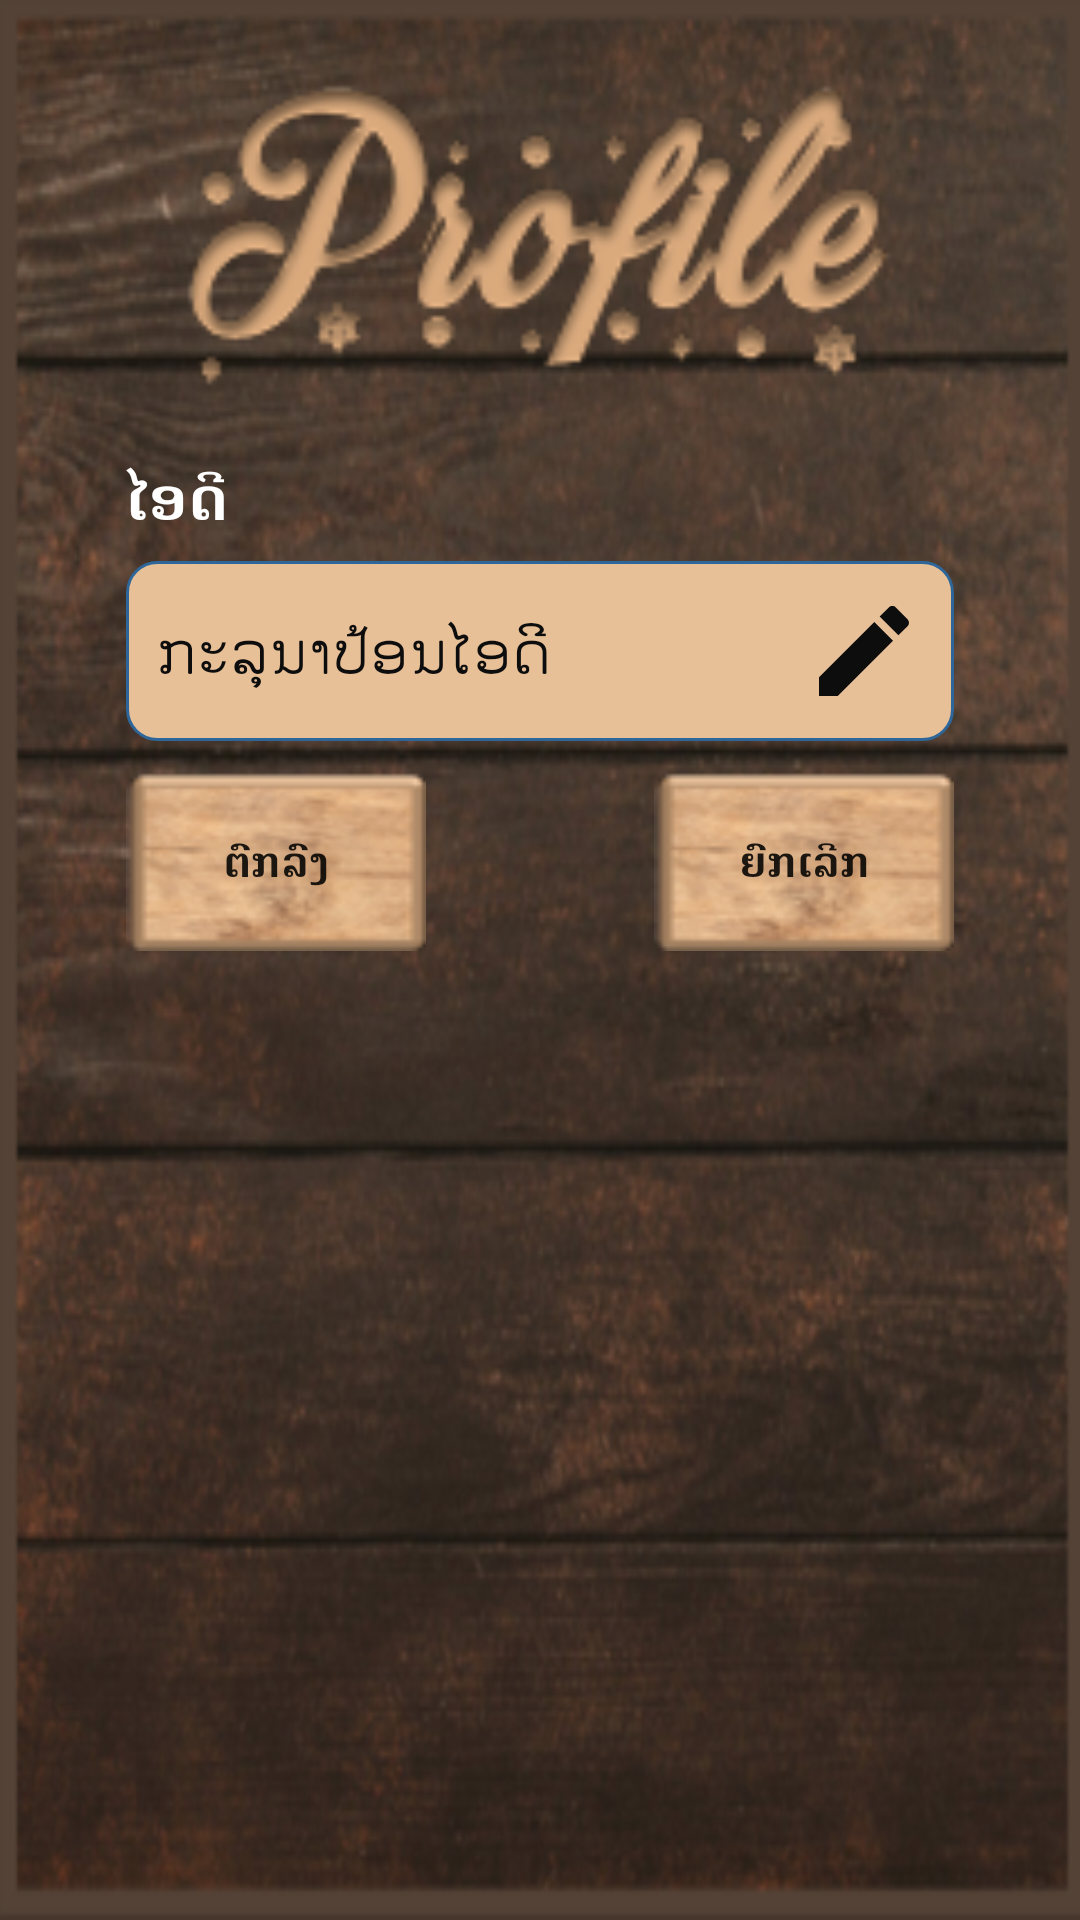

Icon click points for this 1080px x 1920px phone screenshot, format point (x, y):
edit: point (864, 651)
